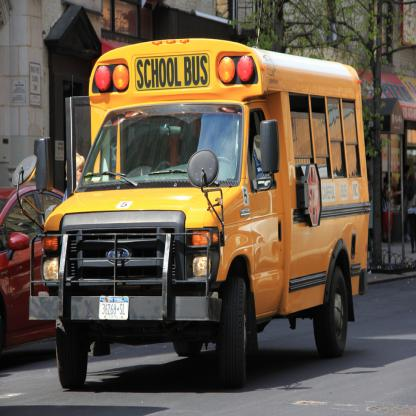Bus: (28, 38, 371, 388)
